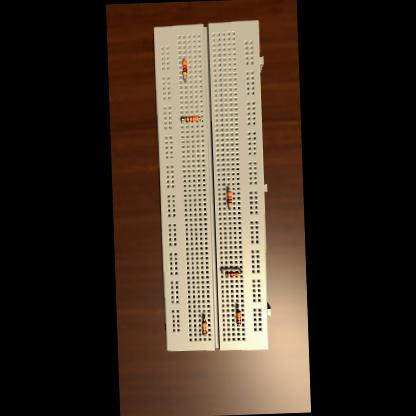breadboard: (153, 19, 273, 353)
resistor: (184, 115, 198, 120), (235, 310, 240, 324), (182, 58, 186, 74), (225, 271, 240, 275), (202, 320, 206, 334), (228, 190, 232, 204)
wire: (221, 270, 224, 273), (198, 118, 202, 120), (184, 74, 185, 81), (181, 118, 183, 121), (228, 205, 230, 208), (237, 304, 238, 310), (239, 270, 241, 272), (228, 188, 229, 190), (237, 324, 238, 326), (204, 314, 204, 320)
